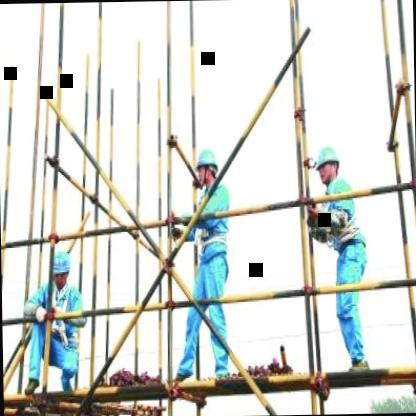helmet: (194, 142, 221, 191), (312, 142, 342, 184), (50, 243, 74, 287)
